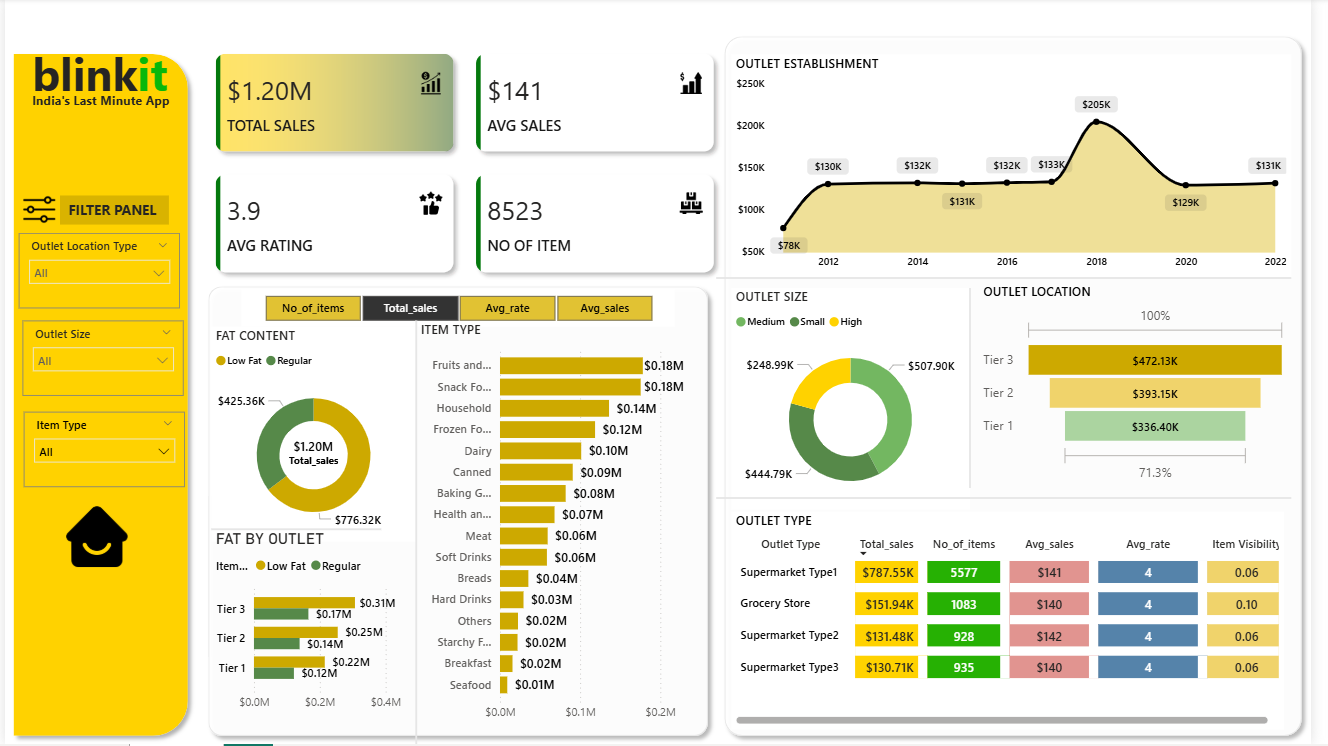

This screenshot's page, from the dashboard's own definition file:
{"tool":"powerbi","page":{"name":"Page 1","canvas":[1400,800],"ordinal":0},"visuals":[{"type":"shape","box":[0,50.9,205.1,749.3],"z":0},{"type":"textbox","box":[538.9,285.5,193,40.2],"z":1000},{"type":"textbox","box":[24.1,42.9,163.5,91.2],"z":2000},{"type":"textbox","box":[24.1,95.2,185,38.9],"z":3000},{"type":"cardVisual","fields":{"Data":["BlinkIT Grocery Data.Total_sales","BlinkIT Grocery Data.Avg_sales","BlinkIT Grocery Data.Avg_rate","BlinkIT Grocery Data.No_of_items"]},"box":[209.1,42.9,569.7,269.4],"z":4000},{"type":"shape","box":[209.1,300.3,553.6,500],"z":5000},{"type":"donutChart","title":"FAT CONTENT","fields":{"Y":["BlinkIT Grocery Data.Total_sales"],"Category":["BlinkIT Grocery Data.Item Fat Content"]},"box":[221.2,352.5,219.8,230.6],"z":6000},{"type":"slicer","fields":{"Values":["Metrics.Metrics"]},"box":[253.4,312.3,465.1,40.2],"z":7000},{"type":"cardVisual","fields":{"Data":["BlinkIT Grocery Data.Total_sales"]},"box":[286.9,454.4,88.5,60.3],"z":8000},{"type":"clusteredBarChart","title":"FAT BY OUTLET","fields":{"Y":["BlinkIT Grocery Data.Total_sales"],"Category":["BlinkIT Grocery Data.Outlet Location Type"],"Series":["BlinkIT Grocery Data.Item Fat Content"]},"box":[221.2,569.7,219.8,203.8],"z":9000},{"type":"shape","box":[221.2,557.6,182.3,24.1],"z":10000},{"type":"shape","box":[422.3,345.8,37.5,454.4],"z":11000},{"type":"barChart","title":"ITEM TYPE","fields":{"Y":["BlinkIT Grocery Data.Total_sales"],"Category":["BlinkIT Grocery Data.Item Type"]},"box":[441,345.8,309.7,438.3],"z":12000},{"type":"shape","box":[762.7,32.2,636.7,768.1],"z":13000},{"type":"lineChart","title":" OUTLET ESTABLISHMENT ","fields":{"Category":["BlinkIT Grocery Data.Outlet Establishment Year"],"Y":["BlinkIT Grocery Data.Total_sales"]},"box":[778.8,60.3,600.5,239.9],"z":14000},{"type":"shape","box":[762.7,288.2,616.6,24.1],"z":15000},{"type":"donutChart","title":"OUTLET SIZE","fields":{"Y":["BlinkIT Grocery Data.Total_sales"],"Category":["BlinkIT Grocery Data.Outlet Size"]},"box":[778.8,311,256,237.3],"z":16000},{"type":"shape","box":[1016.1,311,37.5,214.5],"z":17000},{"type":"funnel","title":" OUTLET LOCATION","fields":{"Category":["BlinkIT Grocery Data.Outlet Location Type"],"Y":["BlinkIT Grocery Data.Total_sales"]},"box":[1044.2,305.6,335.1,218.5],"z":18000},{"type":"shape","box":[762.7,524.1,616.6,24.1],"z":19000},{"type":"pivotTable","title":"OUTLET TYPE","fields":{"Rows":["BlinkIT Grocery Data.Outlet Type"],"Values":["BlinkIT Grocery Data.Total_sales","BlinkIT Grocery Data.No_of_items","BlinkIT Grocery Data.Avg_sales","BlinkIT Grocery Data.Avg_rate","Avg(BlinkIT Grocery Data.Item Visibility)"]},"box":[778.8,550.9,592.5,233.2],"z":20000},{"type":"slicer","fields":{"Values":["BlinkIT Grocery Data.Outlet Location Type"]},"box":[14.7,252,172.9,80.4],"z":21000},{"type":"slicer","fields":{"Values":["BlinkIT Grocery Data.Outlet Size"]},"box":[18.8,345.8,172.9,80.4],"z":22000},{"type":"slicer","fields":{"Values":["BlinkIT Grocery Data.Item Type"]},"box":[20.1,443.7,172.9,80.4],"z":23000},{"type":"textbox","box":[59,211.8,116.6,30.8],"z":24000},{"type":"image","box":[59,534.9,79.1,85.8],"z":24001},{"type":"image","box":[14.7,202.4,44.2,49.6],"z":24002}]}

Visuals, with their boxes in screenshot pixels (x1, y1, x2, y2), scaled from the page's 1400x800 canvas onto the 1328x746 screenshot:
shape: (0,47,195,745)
textbox: (511,266,694,304)
textbox: (23,40,178,125)
textbox: (23,89,198,125)
cardVisual - BlinkIT Grocery Data.Total_sales x BlinkIT Grocery Data.Avg_sales: (198,40,739,291)
shape: (198,280,723,745)
"FAT CONTENT" donutChart: (210,329,418,544)
slicer - Metrics.Metrics: (240,291,682,329)
cardVisual - BlinkIT Grocery Data.Total_sales: (272,424,356,480)
"FAT BY OUTLET" clusteredBarChart: (210,531,418,721)
shape: (210,520,383,542)
shape: (401,322,436,745)
"ITEM TYPE" barChart: (418,322,712,731)
shape: (723,30,1327,745)
" OUTLET ESTABLISHMENT " lineChart: (739,56,1308,280)
shape: (723,269,1308,291)
"OUTLET SIZE" donutChart: (739,290,982,511)
shape: (964,290,999,490)
" OUTLET LOCATION" funnel: (990,285,1308,489)
shape: (723,489,1308,511)
"OUTLET TYPE" pivotTable: (739,514,1301,731)
slicer - BlinkIT Grocery Data.Outlet Location Type: (14,235,178,310)
slicer - BlinkIT Grocery Data.Outlet Size: (18,322,182,397)
slicer - BlinkIT Grocery Data.Item Type: (19,414,183,489)
textbox: (56,198,167,226)
image: (56,499,131,579)
image: (14,189,56,235)
